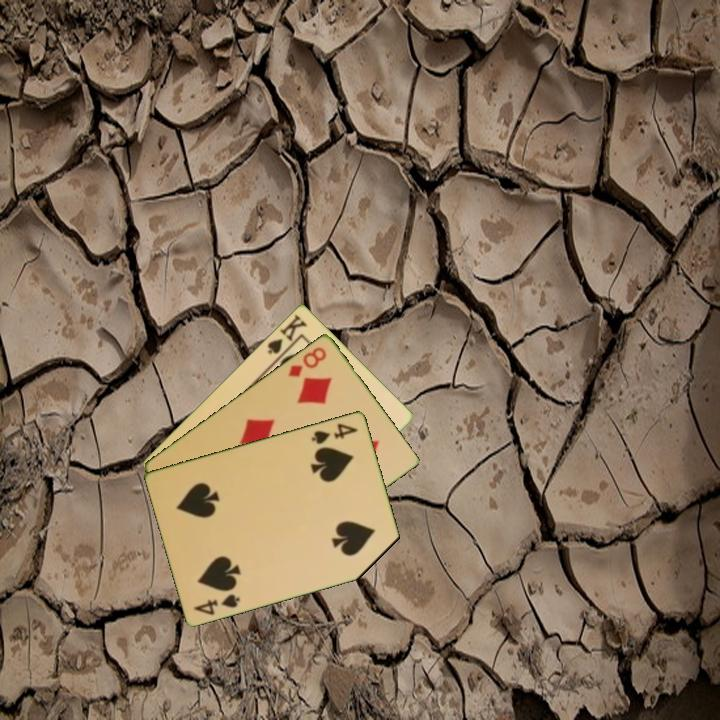4s: (308, 419, 361, 447), (190, 590, 243, 618)
8d: (285, 343, 329, 380)
Ks: (264, 311, 310, 357)
